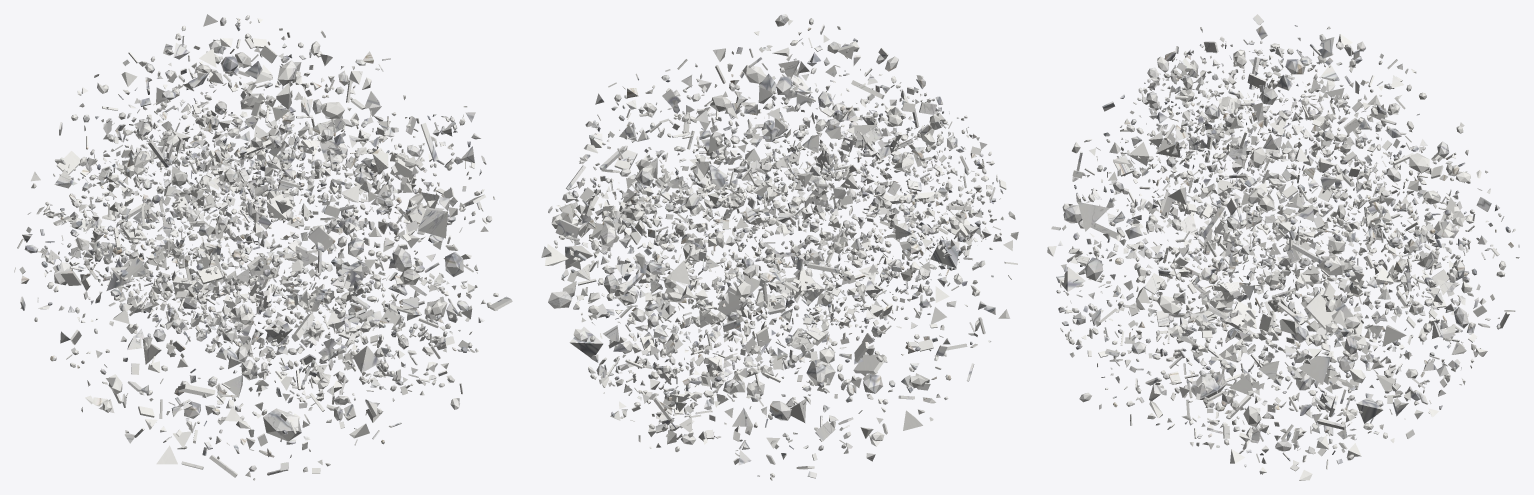
File: hidden-cat-fragments.glb
3 renders of one model, left to right at view 1: azimuth 30°, elevation 25°; view 2: azimuth 150°, elevation 25°; view 3: azimuth 270°, elevation 25°, orthographic. The views are drawn at different scales.
Visible parts, largest first — view 1: fragments; view 2: fragments; view 3: fragments.
Boxes of the visible parts, <box> form: fragments: <box>14,14,512,480</box>; fragments: <box>541,14,1018,480</box>; fragments: <box>1047,14,1519,480</box>.
Bounding box in the file's own units: 4.31 × 4.11 × 4.38.
Materials: 1 (1 with a texture image).
